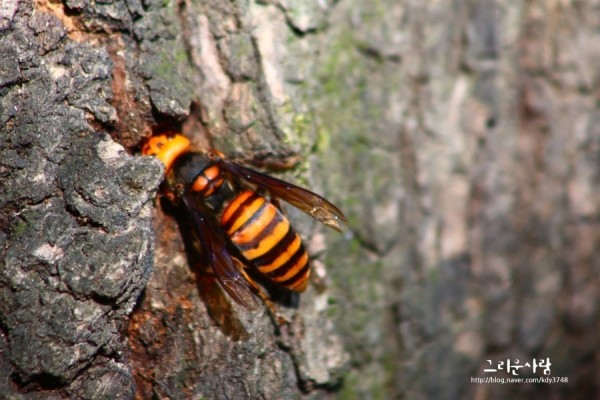asian_giant_hornet: (114, 100, 346, 312)
